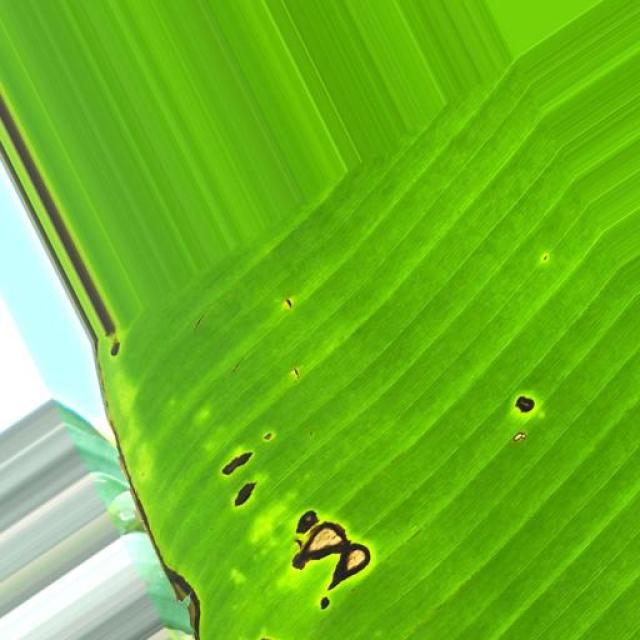Early_rust: (45, 269, 592, 640)
